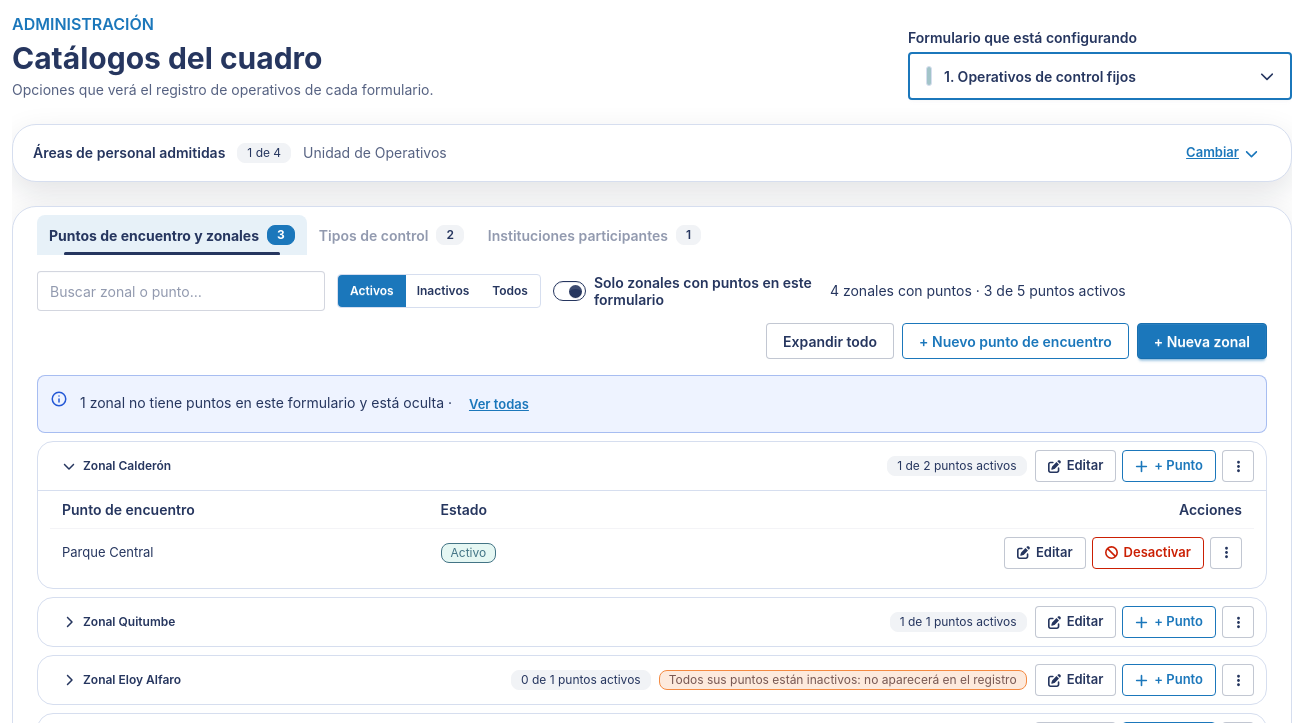
Test: cabecera · formulario que se está configurando › al cambiar de formulario se limpia la búsqueda y se cierran los acordeones
Type "parque" into the search field labelled "Buscar zonal o punto…" at (181, 291), box [37,271,325,311]
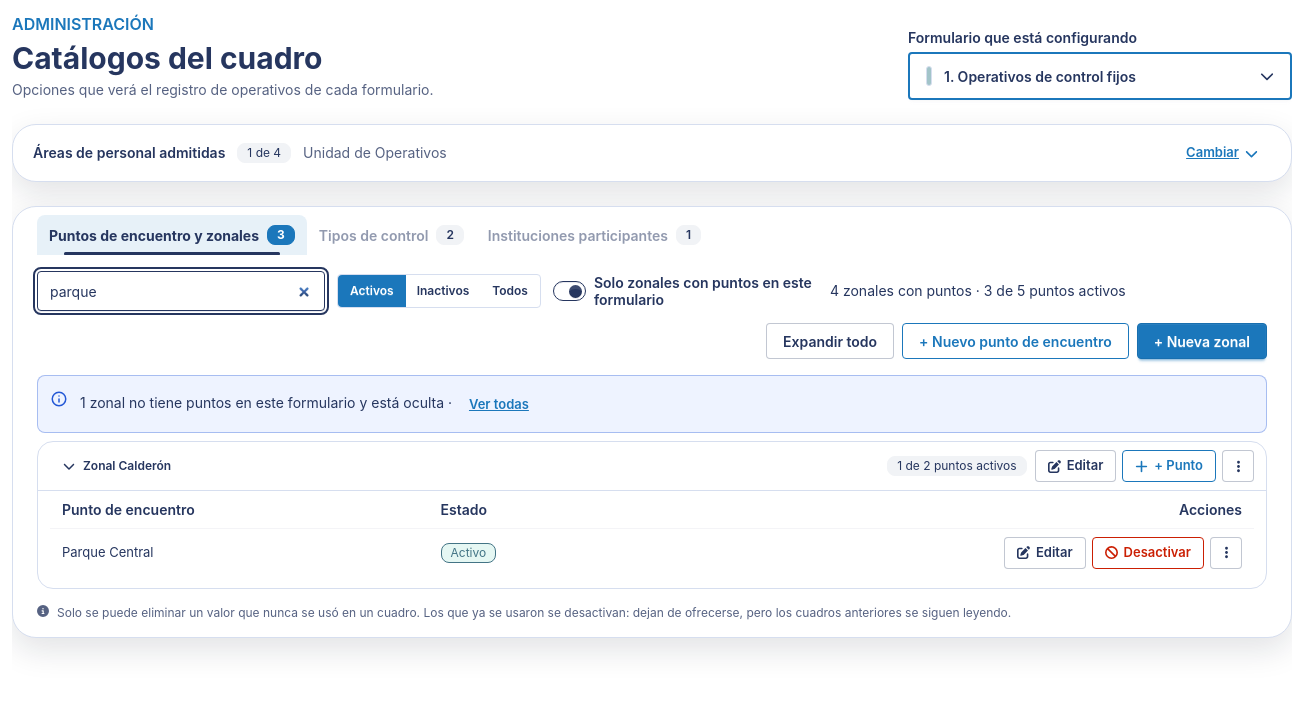
Click the button "1. Operativos de control fijos" at (1100, 76), box [908,52,1292,100]
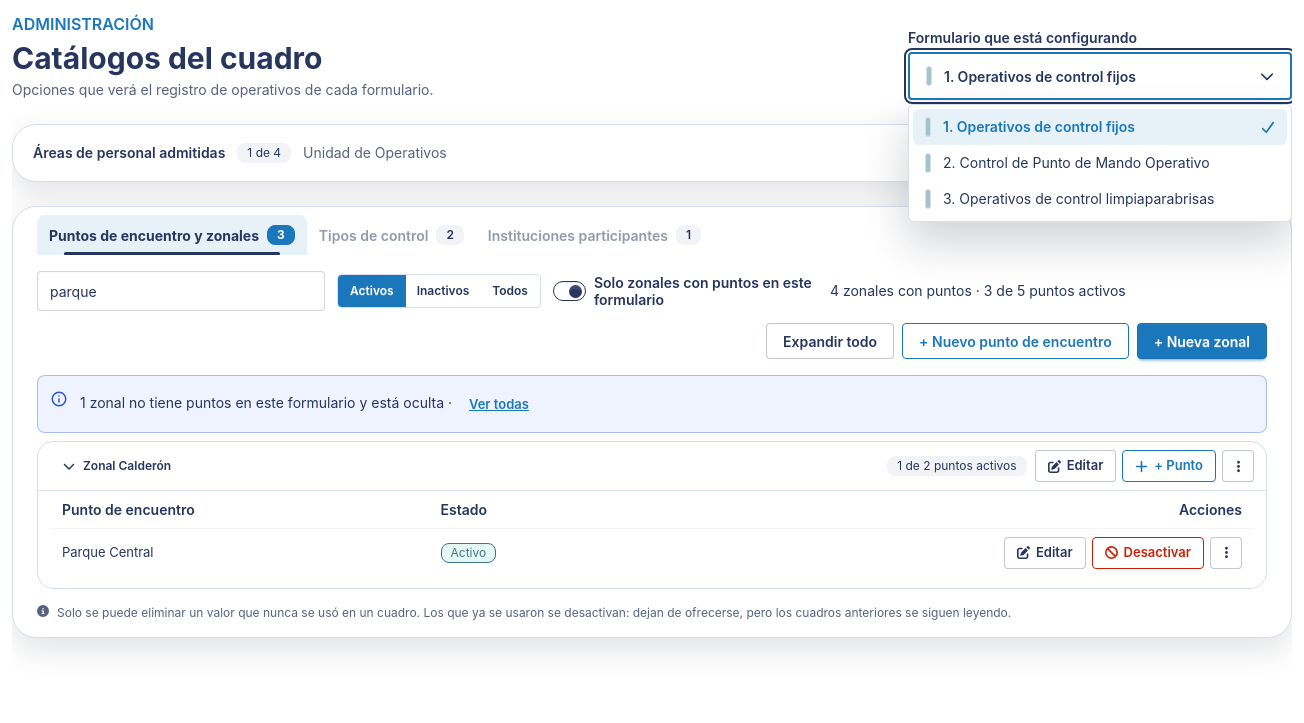
Click the option "2. Control de Punto de Mando Operativo" at (1067, 163), box [925,153,1210,173]
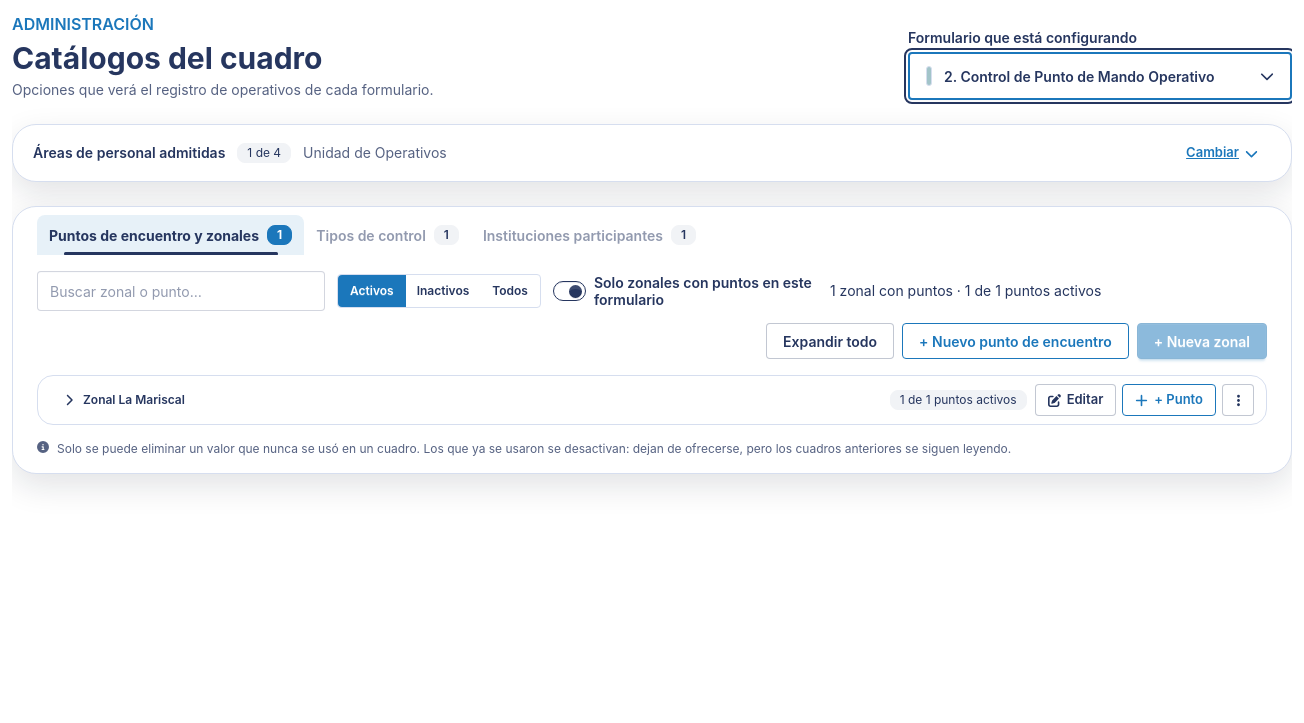
Expected: the text "Zonal La Mariscal" is shown, [83,391,185,409]
Expected: the search field labelled "Buscar zonal o punto…" is empty, [37,271,325,311]
